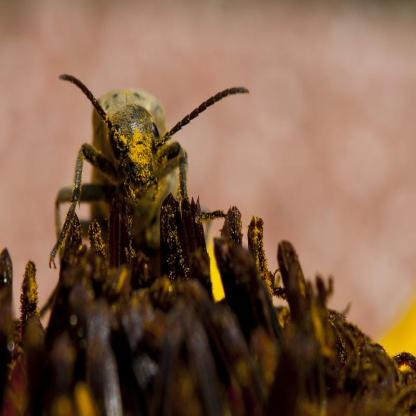beetle: (52, 57, 201, 235)
